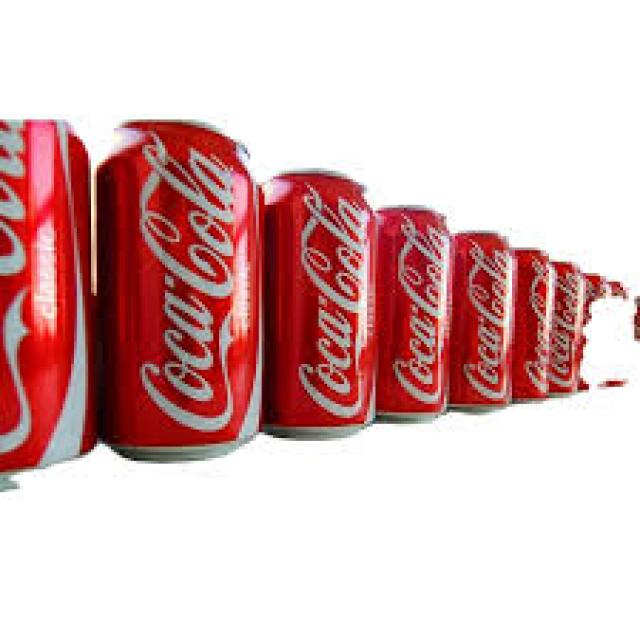Coca-Cola: (95, 100, 266, 485), (0, 107, 99, 480), (262, 156, 376, 458), (374, 202, 455, 427), (448, 219, 516, 415), (515, 241, 553, 408), (555, 262, 583, 398)
